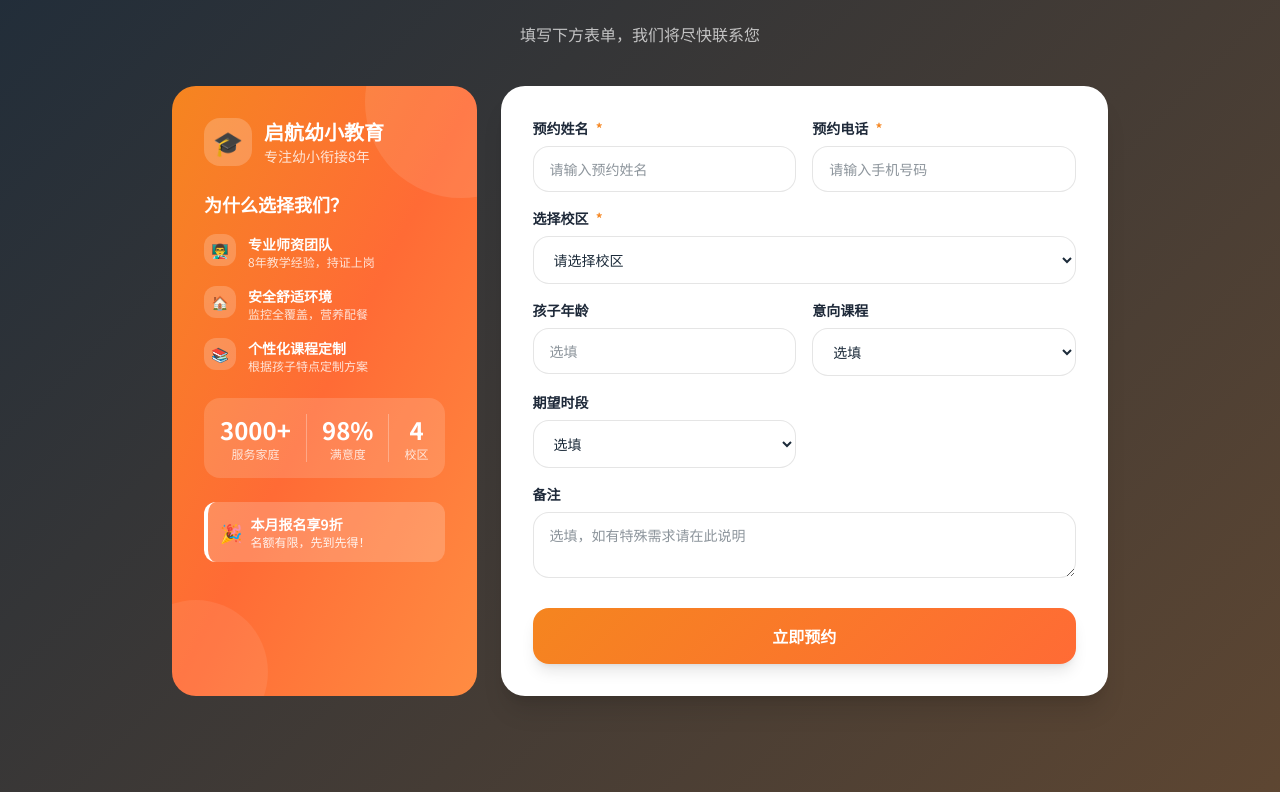
Scenario: ContactForm 组件 › 必填字段为空时显示错误
The width and height of the screenshot is (1280, 792).
(page scrolled)
Click the button "立即预约" at x=804, y=636, box [533, 608, 1076, 664]
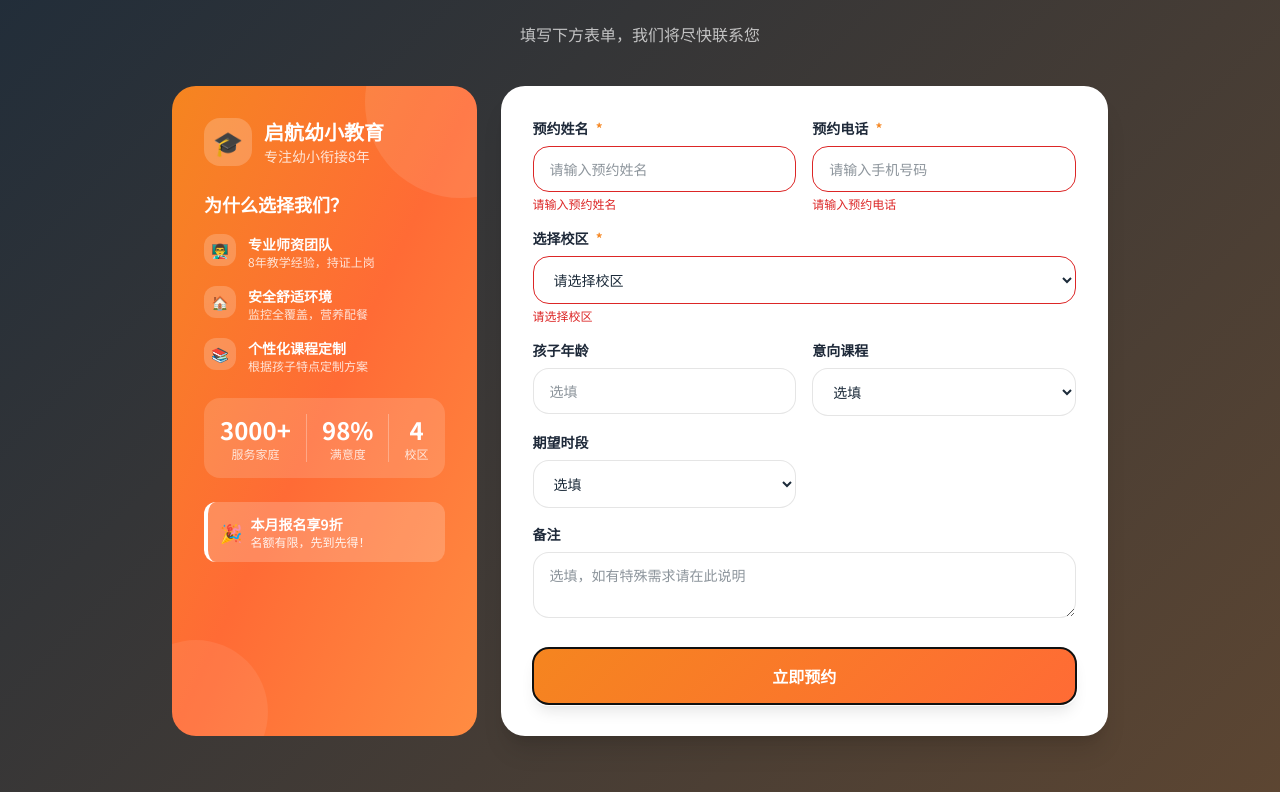
Expected: the text "请输入预约姓名" is shown, [533, 195, 617, 212]
Expected: the text "请输入预约电话" is shown, [812, 195, 896, 212]
Expected: the text "请选择校区" is shown, [533, 307, 593, 324]
